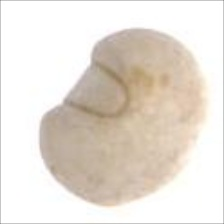L5: (60, 56, 138, 124), (157, 127, 195, 191)
L6: (36, 26, 210, 211)
